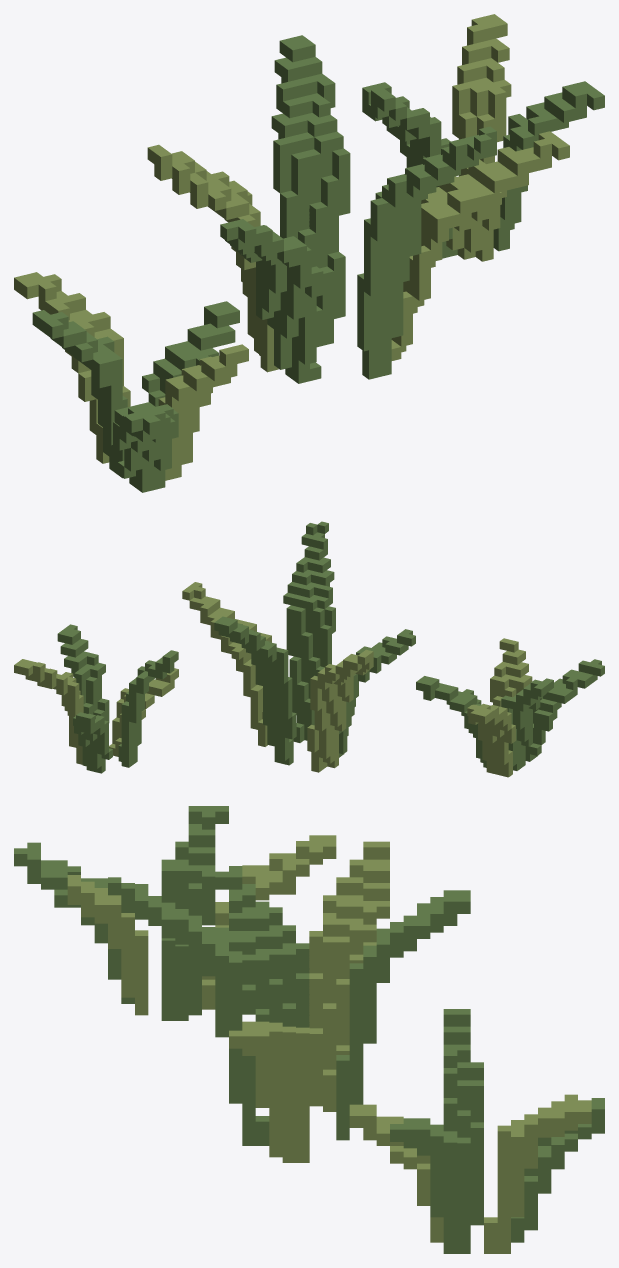
The model's file is grass_tuft_v2_species1_near.glb.
The picture shows the model from 3 angles, top to bottom: view 1: azimuth 30°, elevation 25°; view 2: azimuth 150°, elevation 25°; view 3: azimuth 270°, elevation 25°; orthographic projection. The views are drawn at different scales.
Visible parts, largest first — view 1: grass_tuft_v2_species1_near; view 2: grass_tuft_v2_species1_near; view 3: grass_tuft_v2_species1_near.
Part boxes in pixels (left/top/right/bottom): grass_tuft_v2_species1_near: left=14, top=14, right=604, bottom=492; grass_tuft_v2_species1_near: left=14, top=521, right=604, bottom=777; grass_tuft_v2_species1_near: left=14, top=806, right=604, bottom=1253.
Bounding box in the file's own units: 1.78 × 0.7188 × 1.38.
Materials: 1 (1 with a texture image).
